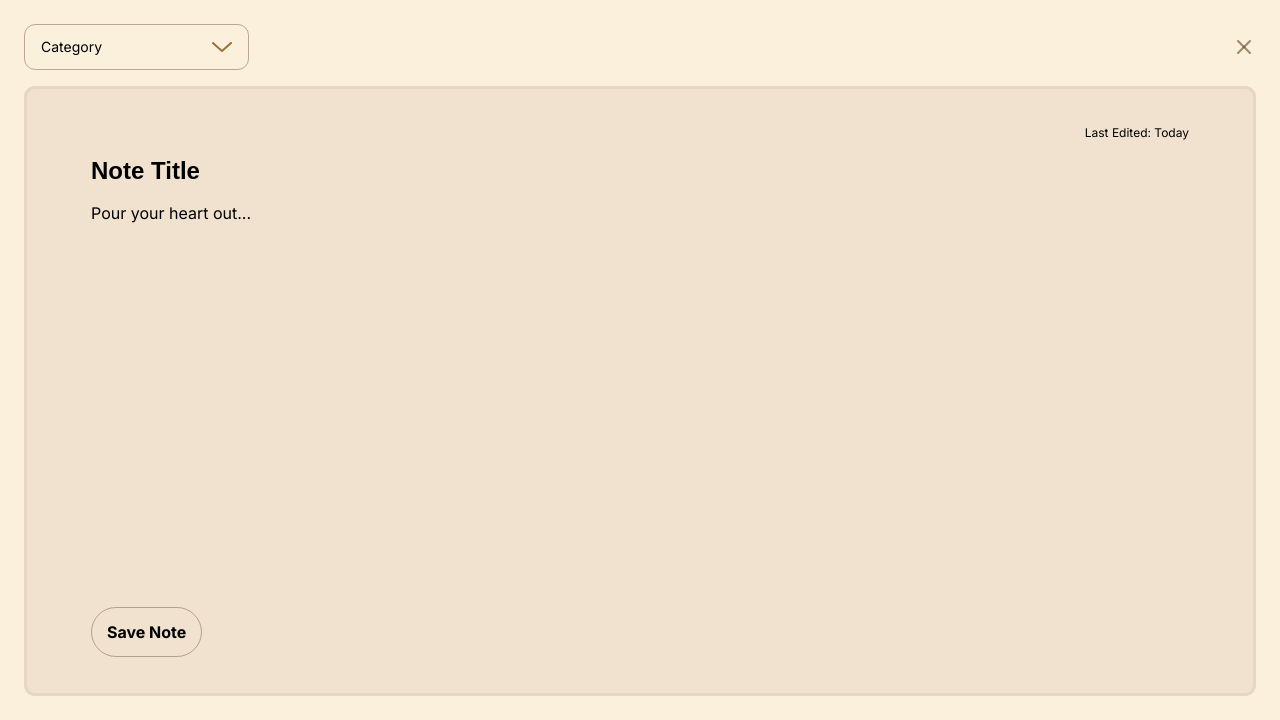
it: NoteModal › shows validation error when title is empty
Click the button "Save Note": (147,632) [91,607,202,657]
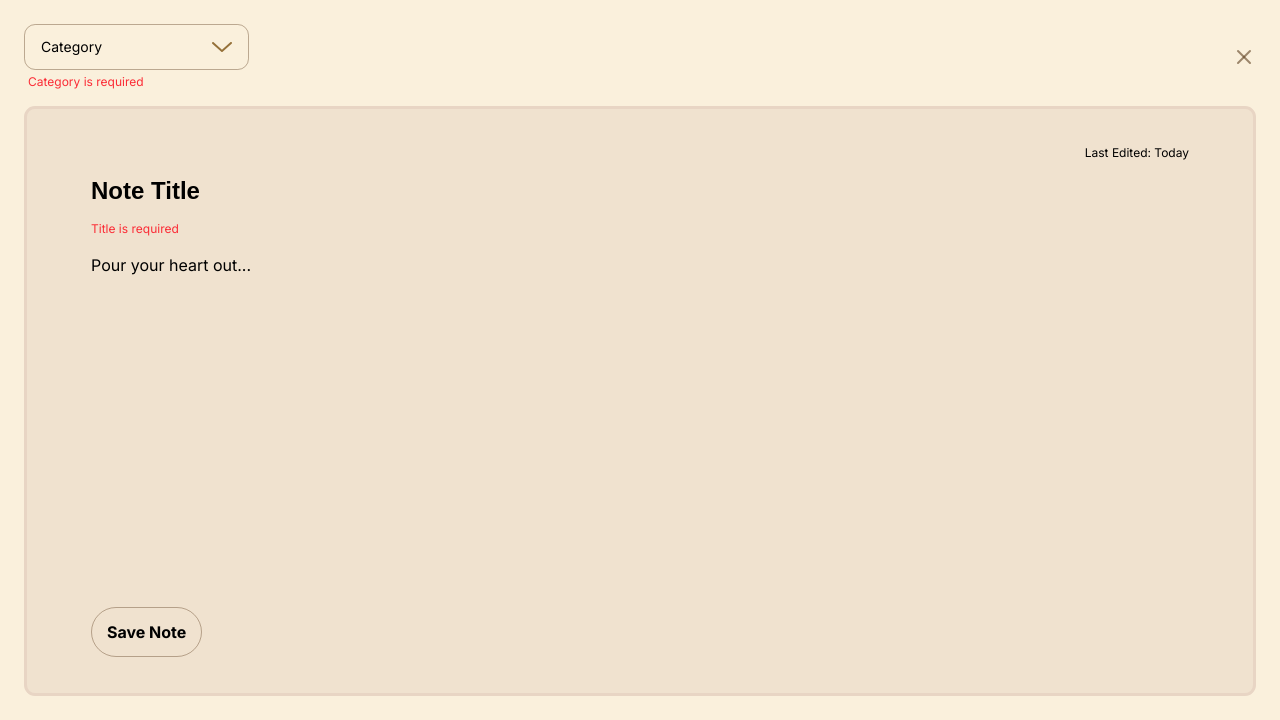
Expected: the text "Title is required" is shown, [91,221,179,236]
